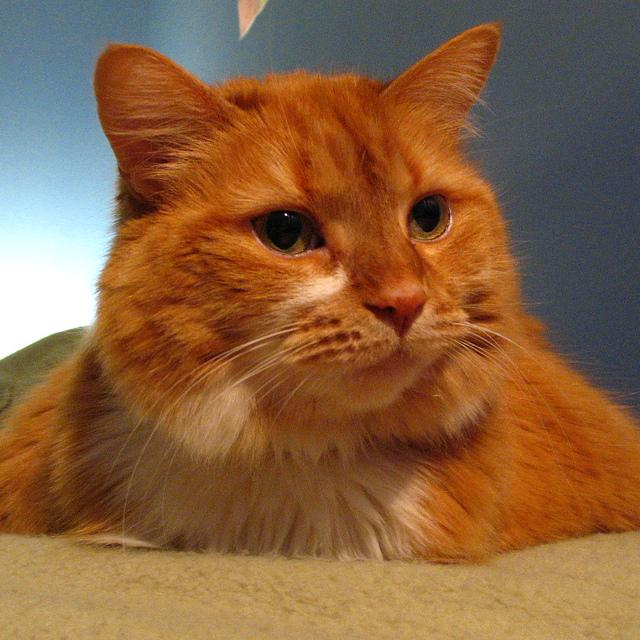animals: (110, 28, 494, 324)
